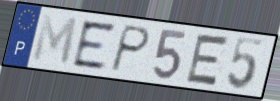5: (225, 35, 268, 92), (149, 28, 190, 81)
E: (183, 32, 232, 89), (71, 19, 117, 71)
M: (30, 12, 79, 68)
P: (107, 23, 152, 74)
